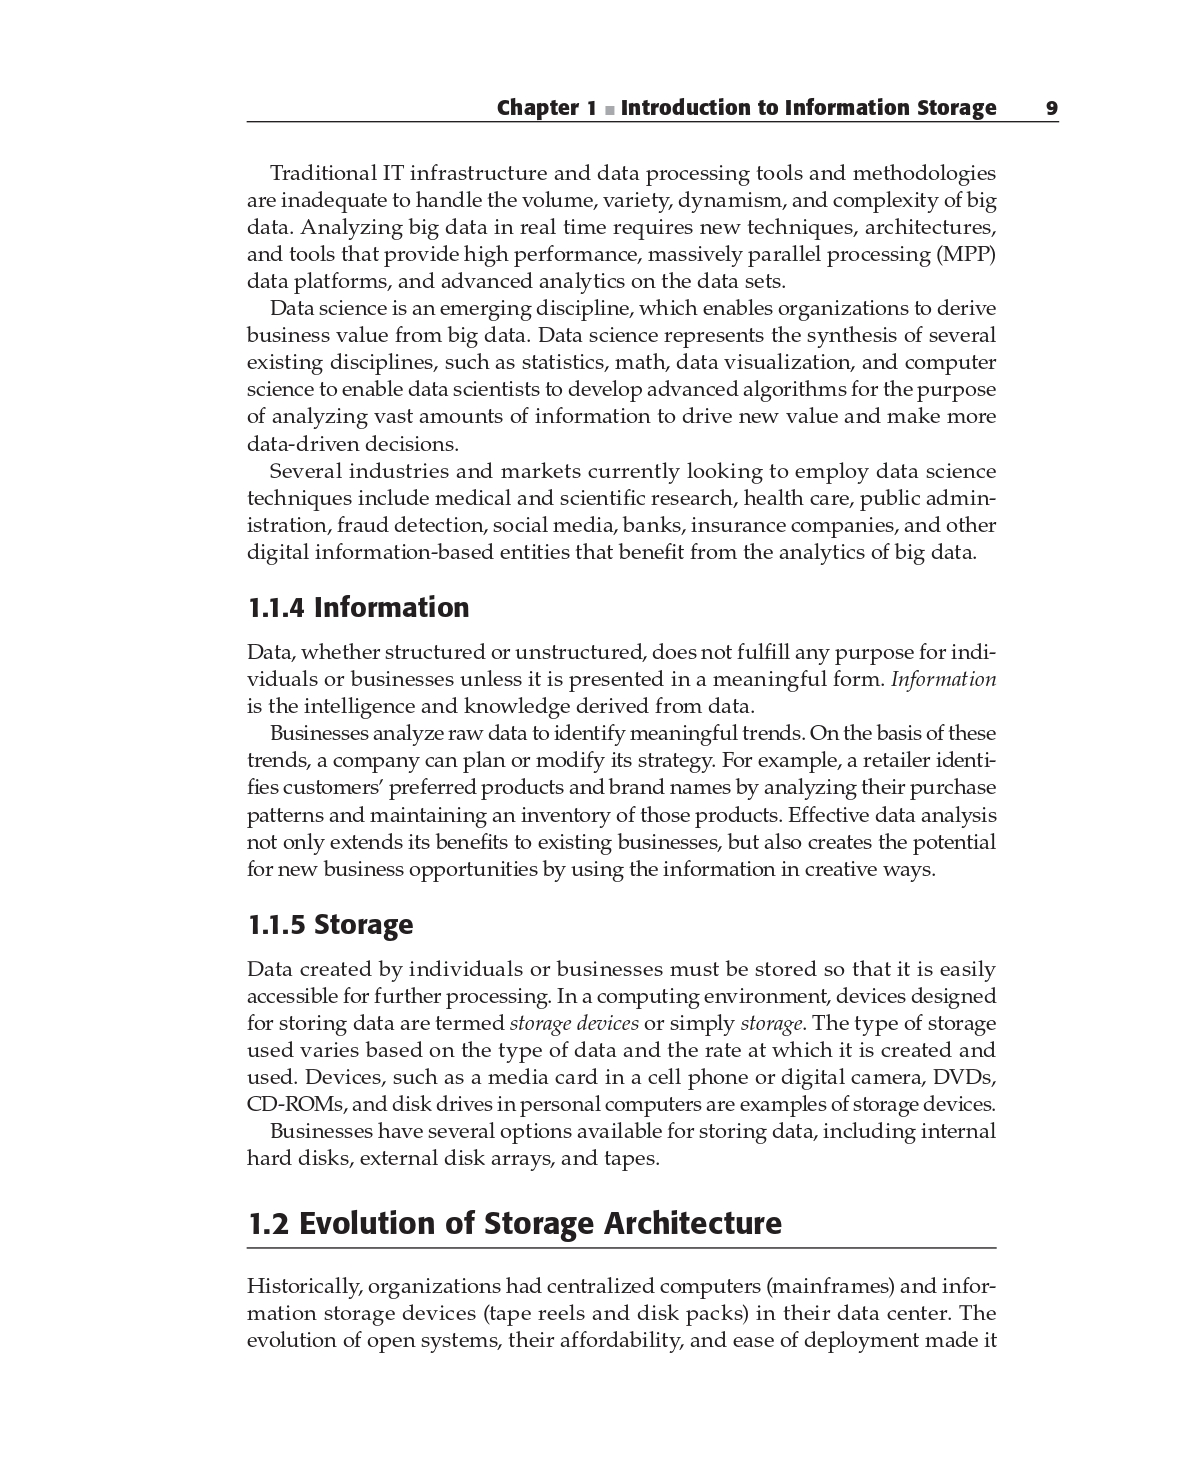Paragraph: (230, 943, 1013, 1189), (230, 725, 1007, 888), (236, 292, 1007, 456), (240, 145, 1005, 292), (245, 462, 1011, 578), (236, 628, 1001, 721), (234, 1270, 1007, 1361), (230, 1191, 806, 1235), (482, 85, 1075, 126), (240, 899, 435, 941), (236, 596, 487, 625)
